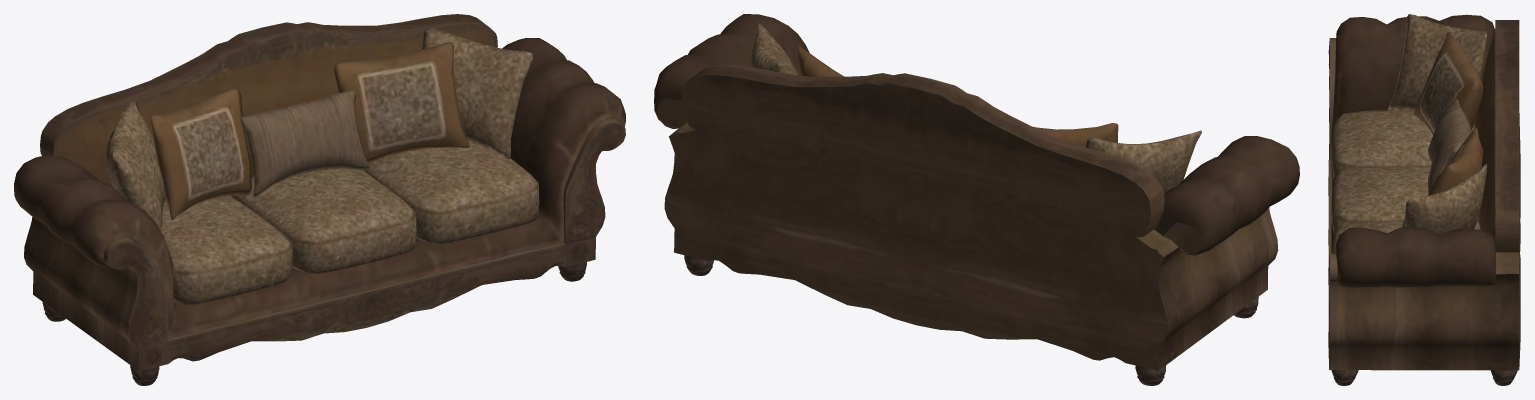
The model's file is sofa_03.glb.
3 views of the same model, side by side, from view 1: azimuth 30°, elevation 25°; view 2: azimuth 150°, elevation 25°; view 3: azimuth 270°, elevation 25° (orthographic). The views are drawn at different scales.
Parts seen in each view (by area): view 1: sofa_03; view 2: sofa_03; view 3: sofa_03.
Boxes of the visible parts, box(x1,y1,x2,y2) form: sofa_03: box(14, 14, 625, 385); sofa_03: box(654, 14, 1299, 385); sofa_03: box(1328, 14, 1520, 385).
Size of the model in its own units: 2.73 by 1.12 by 0.9251.
1 material, 1 textured.
